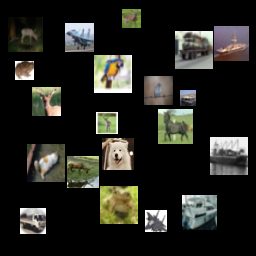airplane: (65, 23, 94, 52), (145, 210, 167, 232)
bird: (94, 55, 132, 93), (144, 76, 173, 105)
cat: (27, 144, 65, 182)
deer: (8, 17, 43, 52), (67, 156, 99, 188), (32, 87, 61, 116), (96, 112, 118, 134), (122, 9, 141, 28)
dog: (102, 138, 134, 170)
frog: (100, 186, 138, 224), (15, 61, 34, 80)
ship: (210, 137, 248, 175), (182, 195, 217, 230), (214, 26, 249, 61), (180, 90, 196, 106)
